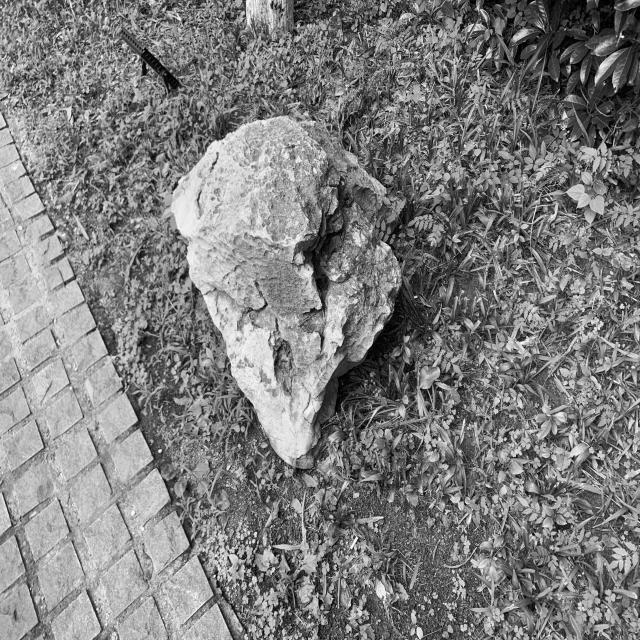Stone: (172, 117, 402, 467)
